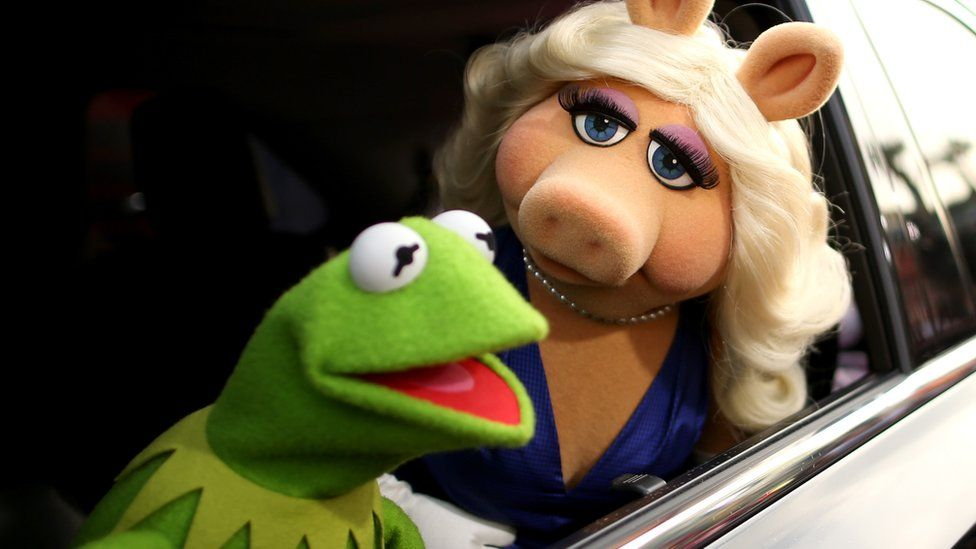kermit: (215, 201, 552, 499)
